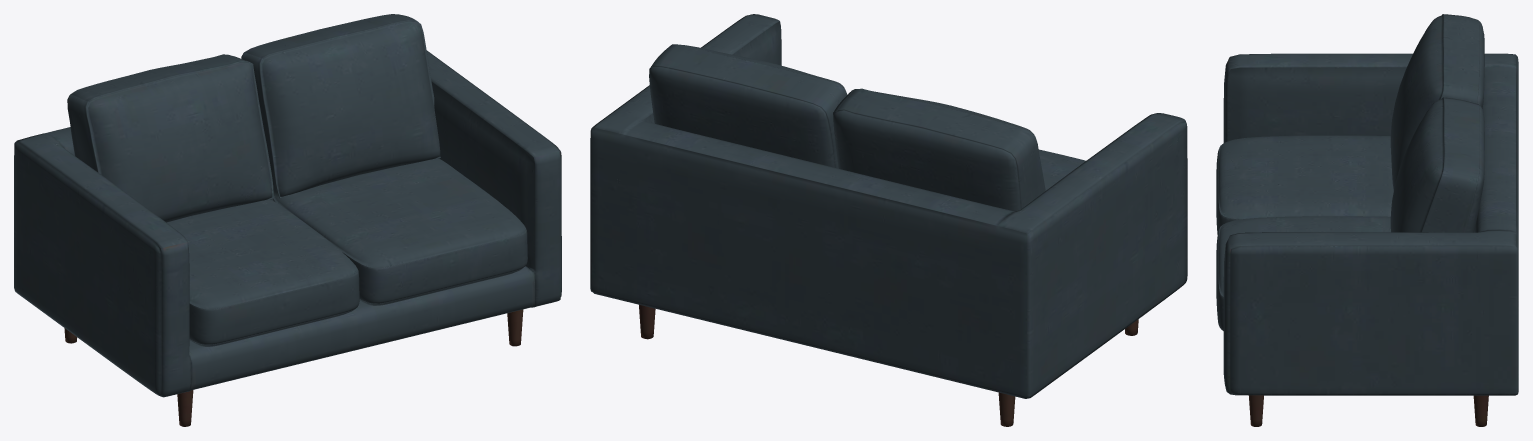
The model's file is abo-B071FMSY5S.glb.
3 views of the same model, side by side, from view 1: azimuth 30°, elevation 25°; view 2: azimuth 150°, elevation 25°; view 3: azimuth 270°, elevation 25° (orthographic). The views are drawn at different scales.
Size of the model in its own units: 1.52 by 0.93 by 0.999.
Materials: 1 (1 with a texture image).
